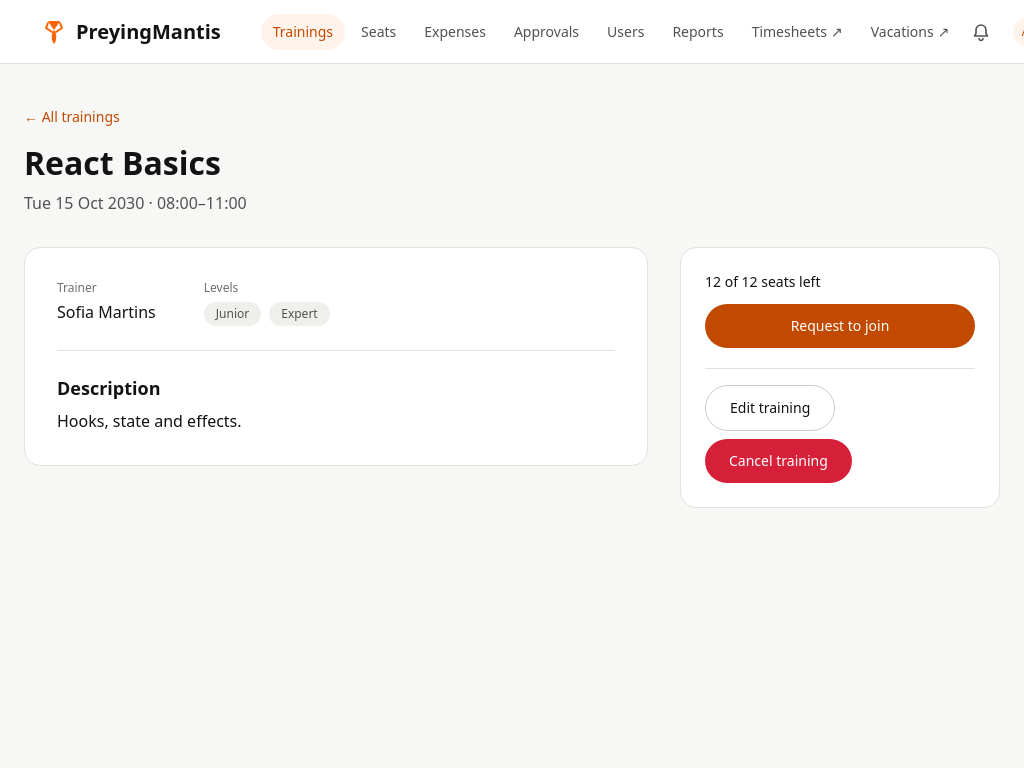
Test case: cancel training › asks for confirmation, then shows the training as cancelled
The image size is (1024, 768).
Click the button "Cancel training". click: point(778, 461)
box: left=705, top=439, right=852, bottom=483
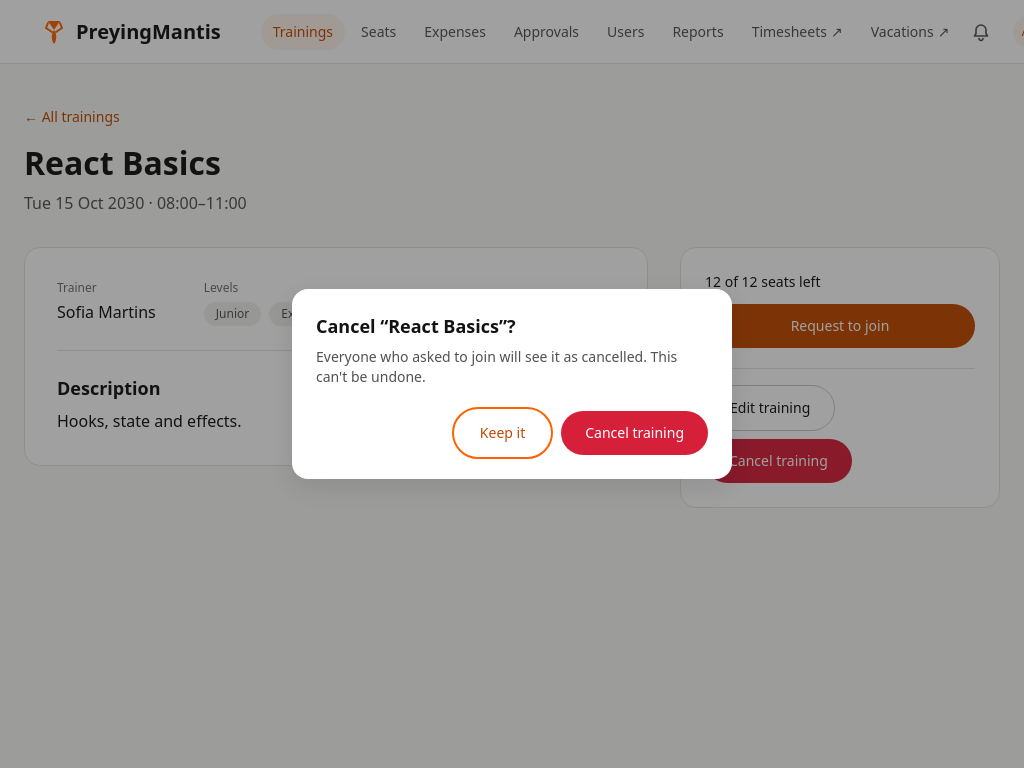
Click the button "Cancel training". click: point(635, 433)
box: left=561, top=411, right=708, bottom=455
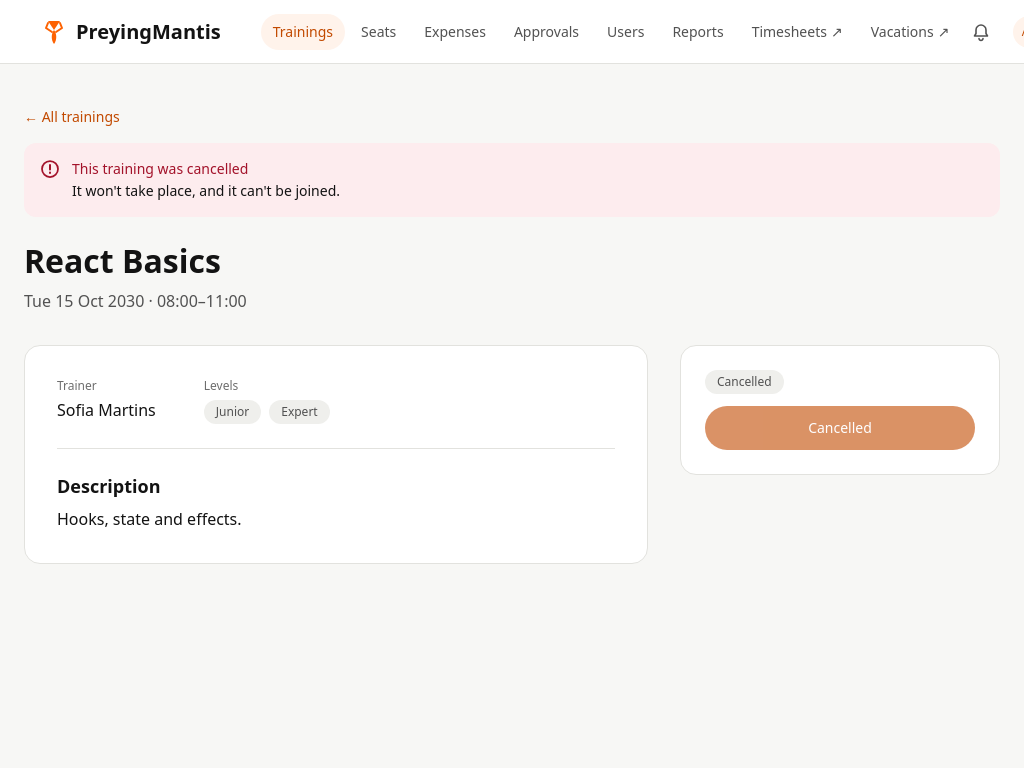
Expected: the message shows "This training was cancelled", left=72, top=159, right=248, bottom=178
Expected: the button "Cancelled" is disabled, left=705, top=406, right=975, bottom=450
Expected: the button "Cancel training" is gone
